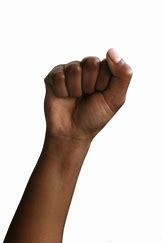closed: (43, 47, 133, 139)
